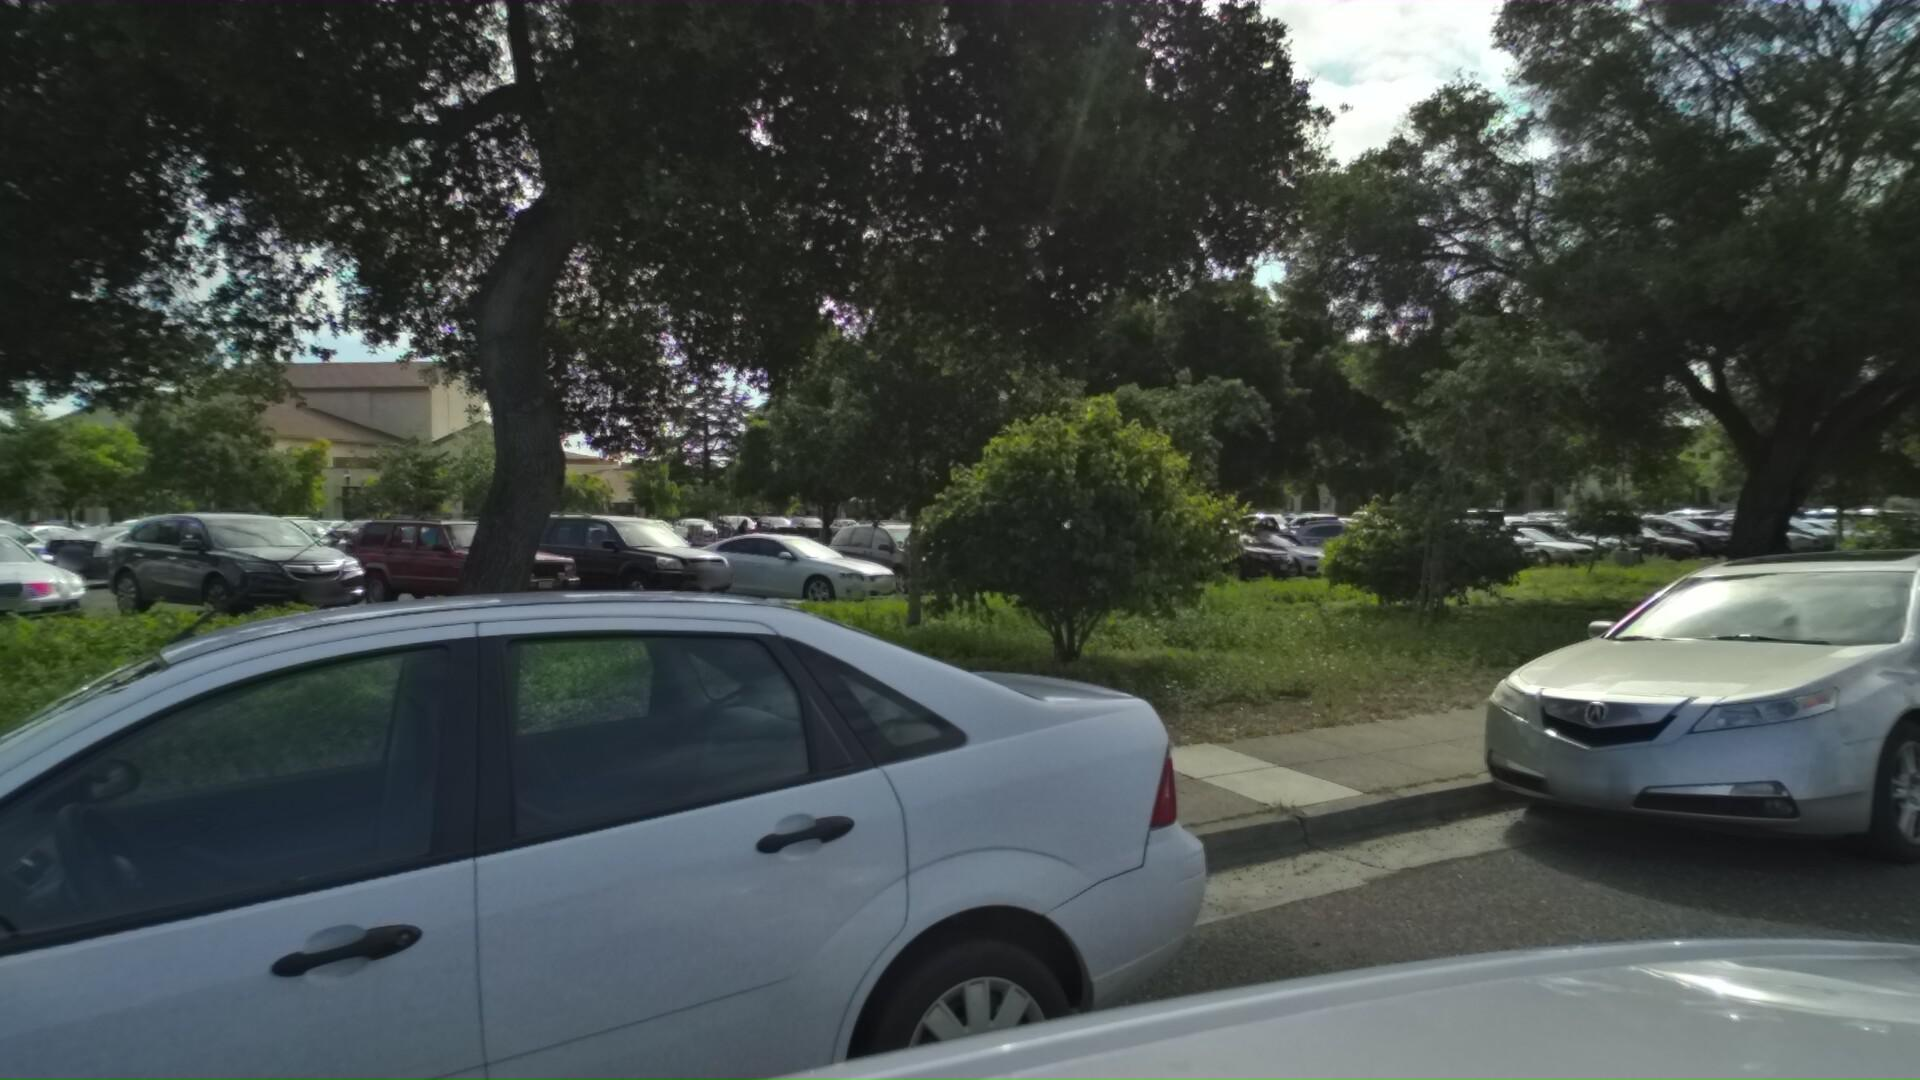car: (0, 545, 1336, 1080), (1444, 526, 1920, 916)
